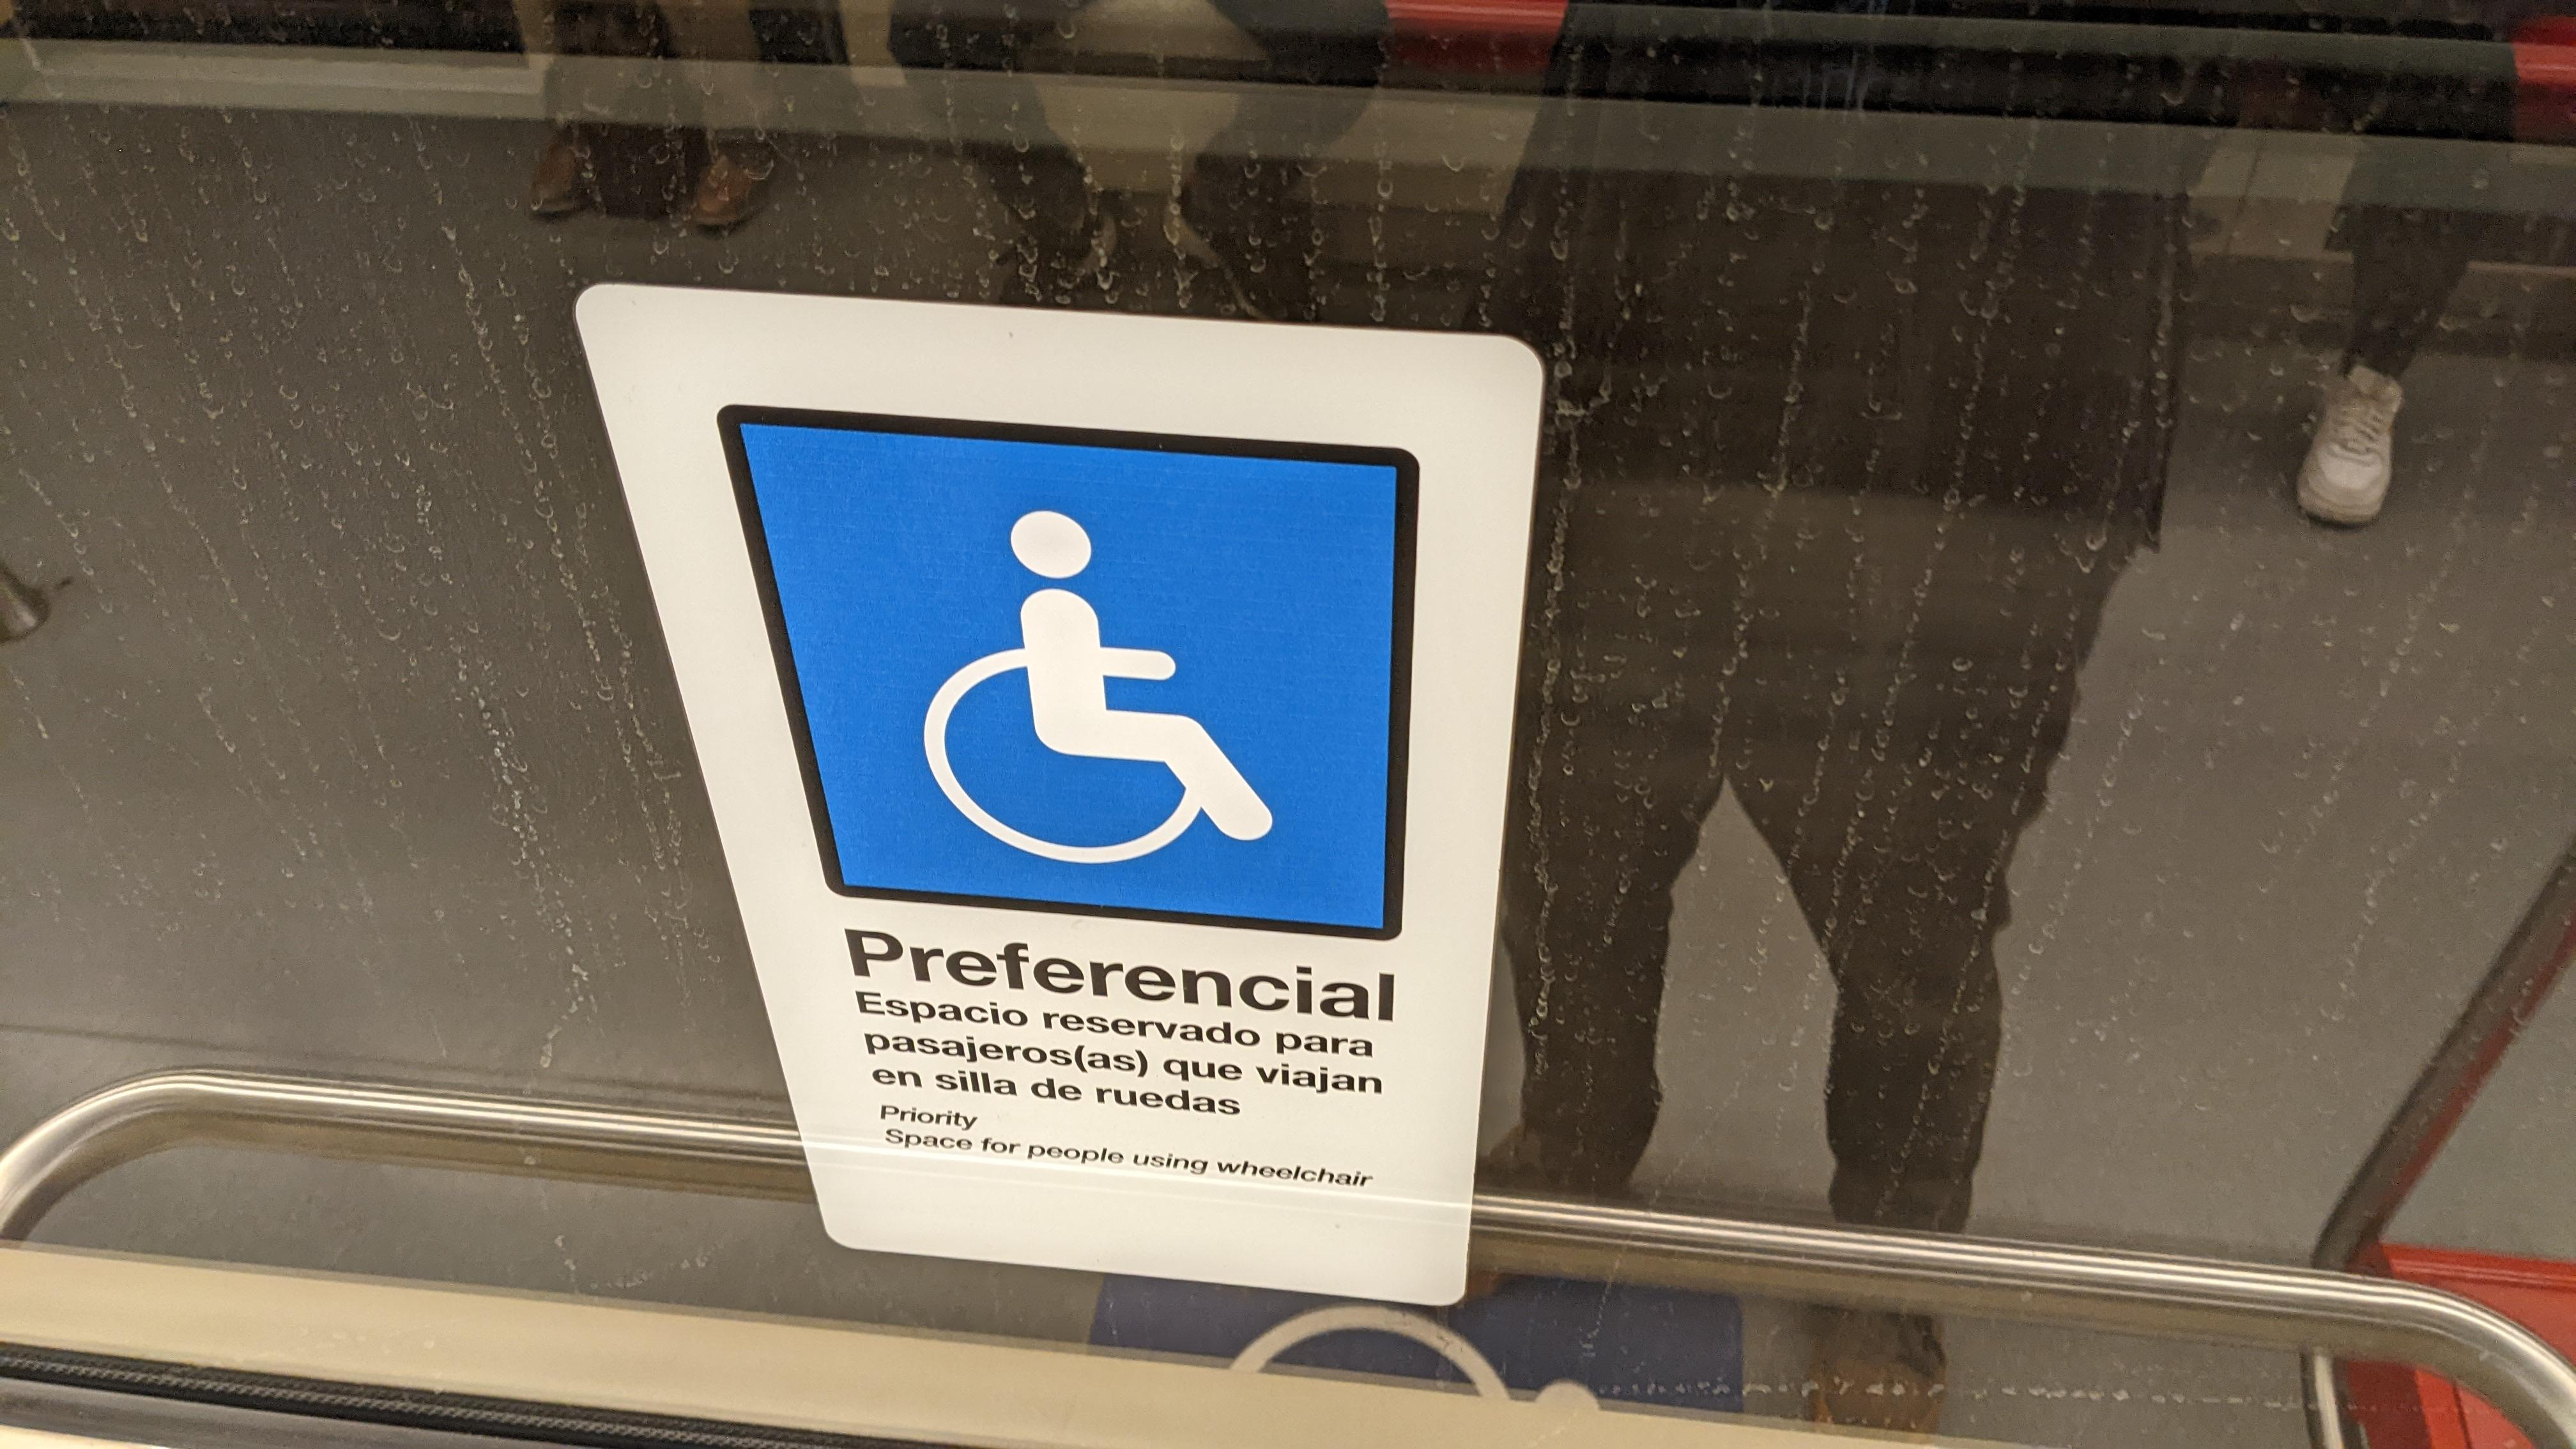handicapped symbol: (916, 501, 1281, 870)
